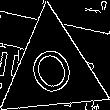O_SE: (22, 36, 82, 103)
